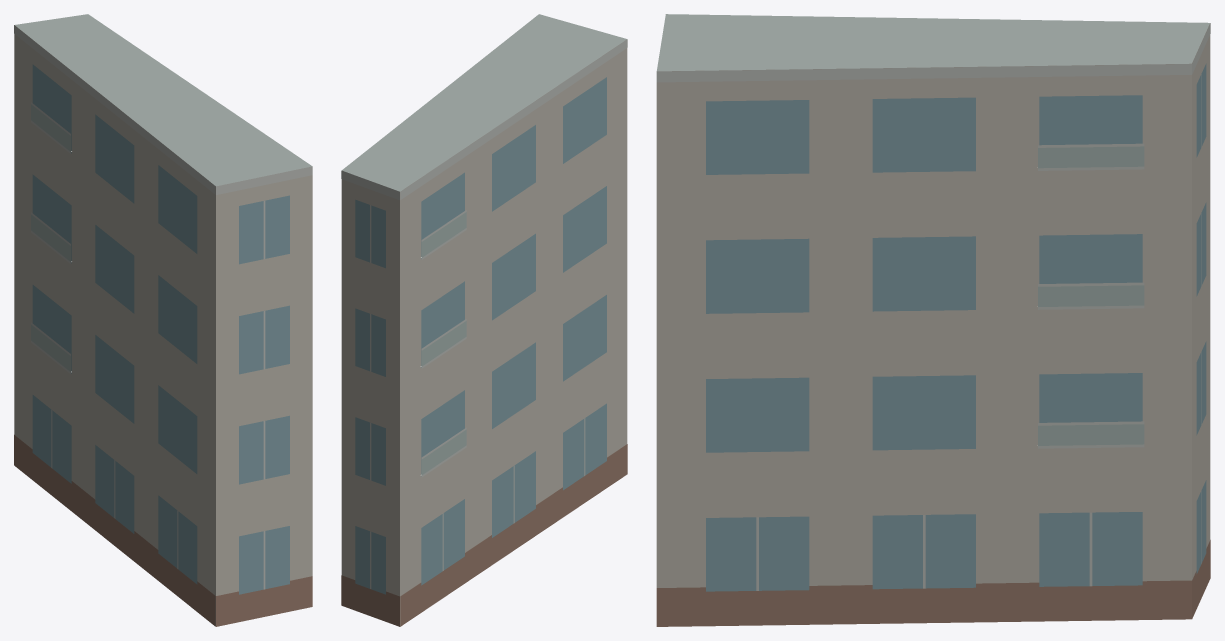
Rendered from survey-upis-32917726.glb.
The picture shows the model from 3 angles, left to right: view 1: azimuth 30°, elevation 25°; view 2: azimuth 150°, elevation 25°; view 3: azimuth 270°, elevation 25°; orthographic projection. The views are drawn at different scales.
Visible parts, largest first — view 1: survey-upis-32917726.tmp; view 2: survey-upis-32917726.tmp; view 3: survey-upis-32917726.tmp.
Boxes of the visible parts, left/top/right/bottom form: survey-upis-32917726.tmp: left=14, top=14, right=312, bottom=626; survey-upis-32917726.tmp: left=341, top=14, right=627, bottom=626; survey-upis-32917726.tmp: left=656, top=14, right=1210, bottom=626.
Bounding box in the file's own units: 2.71 × 12.2 × 11.03.
